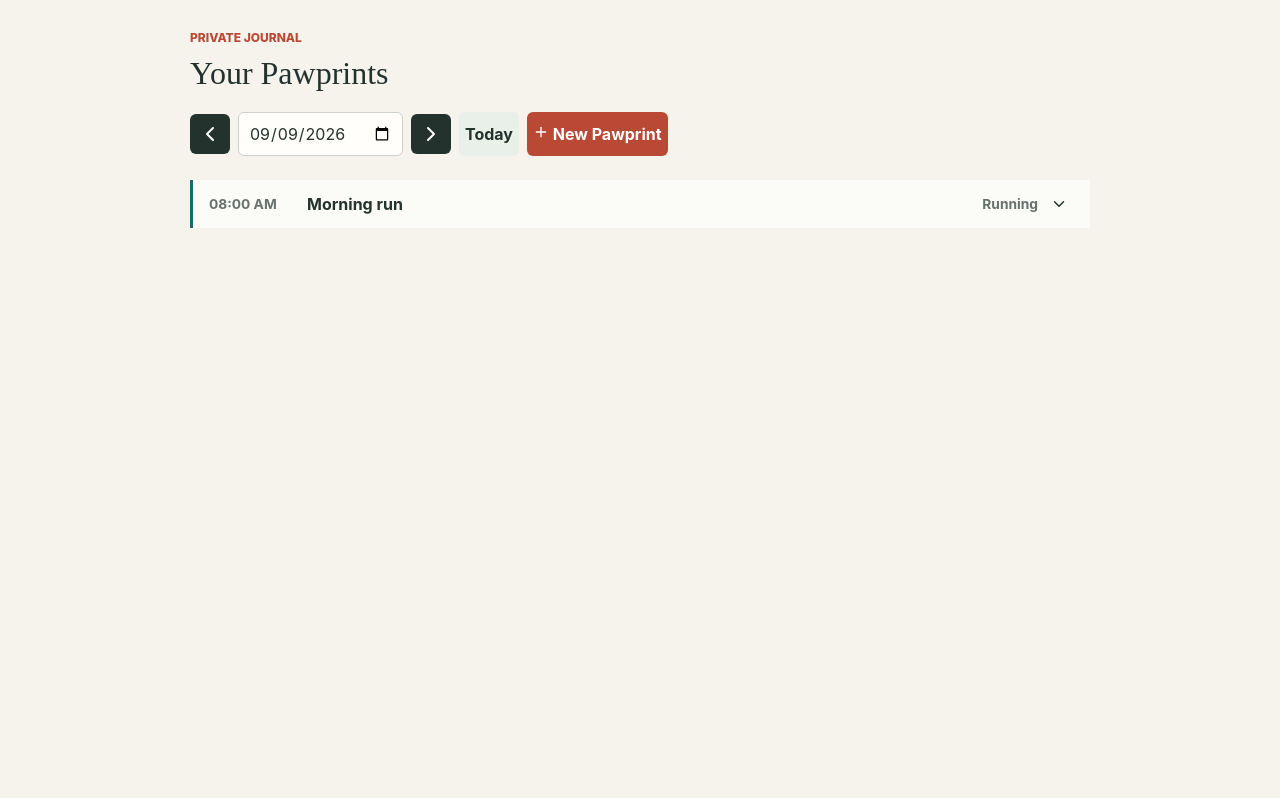
Test: TimelinePage › shows the refetched title after a successful edit returns to the timeline
Check: the text "Morning run" is shown, box [307,194,403,214]
Step 1. Click the button "08:00 AM Morning run Running" → [243, 204], box [193,180,1090,228]
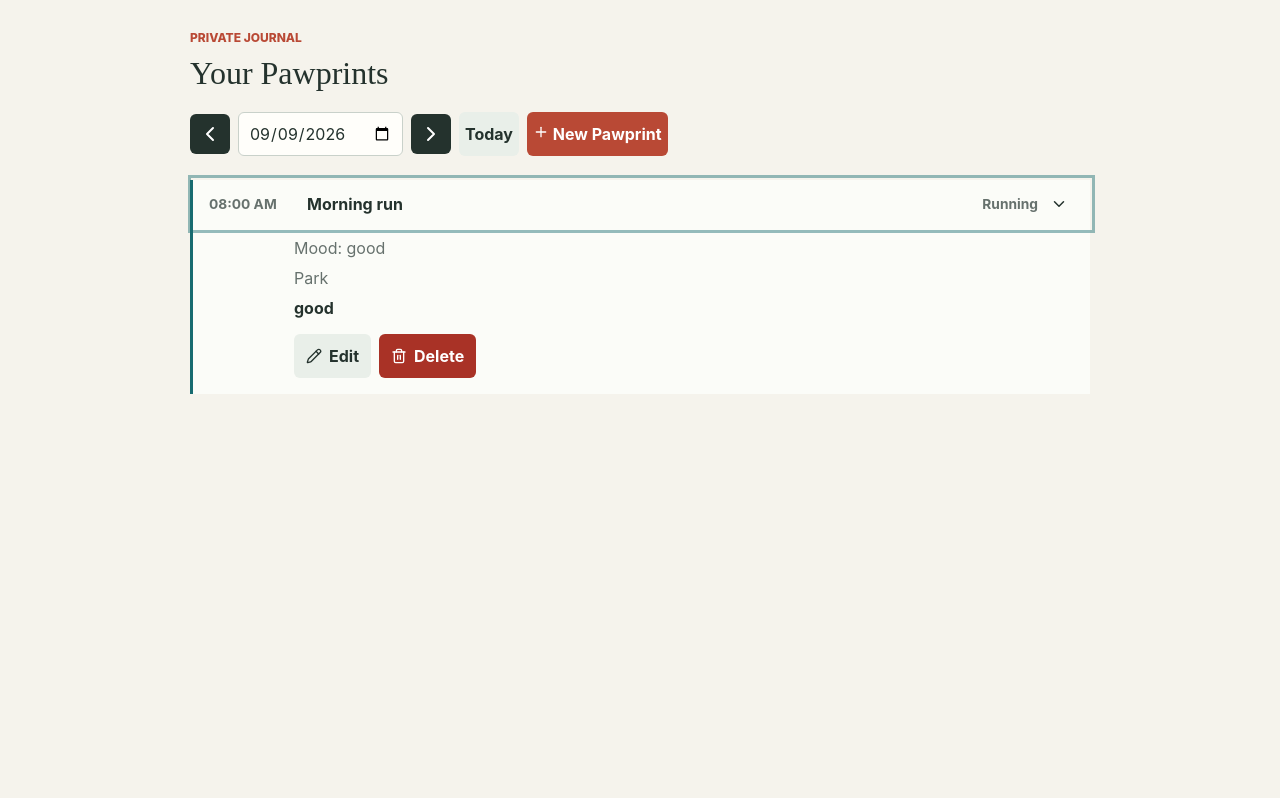
Step 2. Click the button with aria-label "Edit Morning run" → [332, 356], box [294,334,371,378]
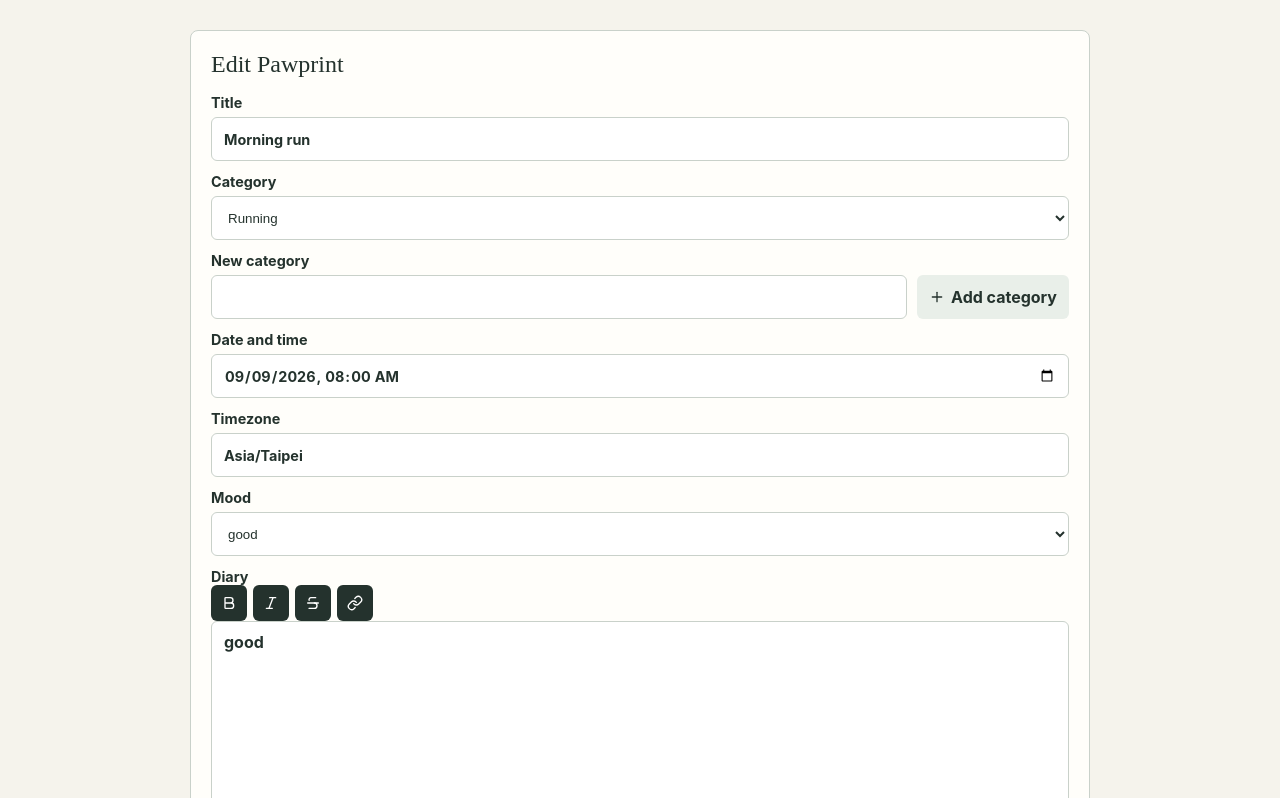
Step 3. Replace the text in the field labelled "Title" with "Fresh title" → [640, 139], box [211,117,1069,161]
(page scrolled)
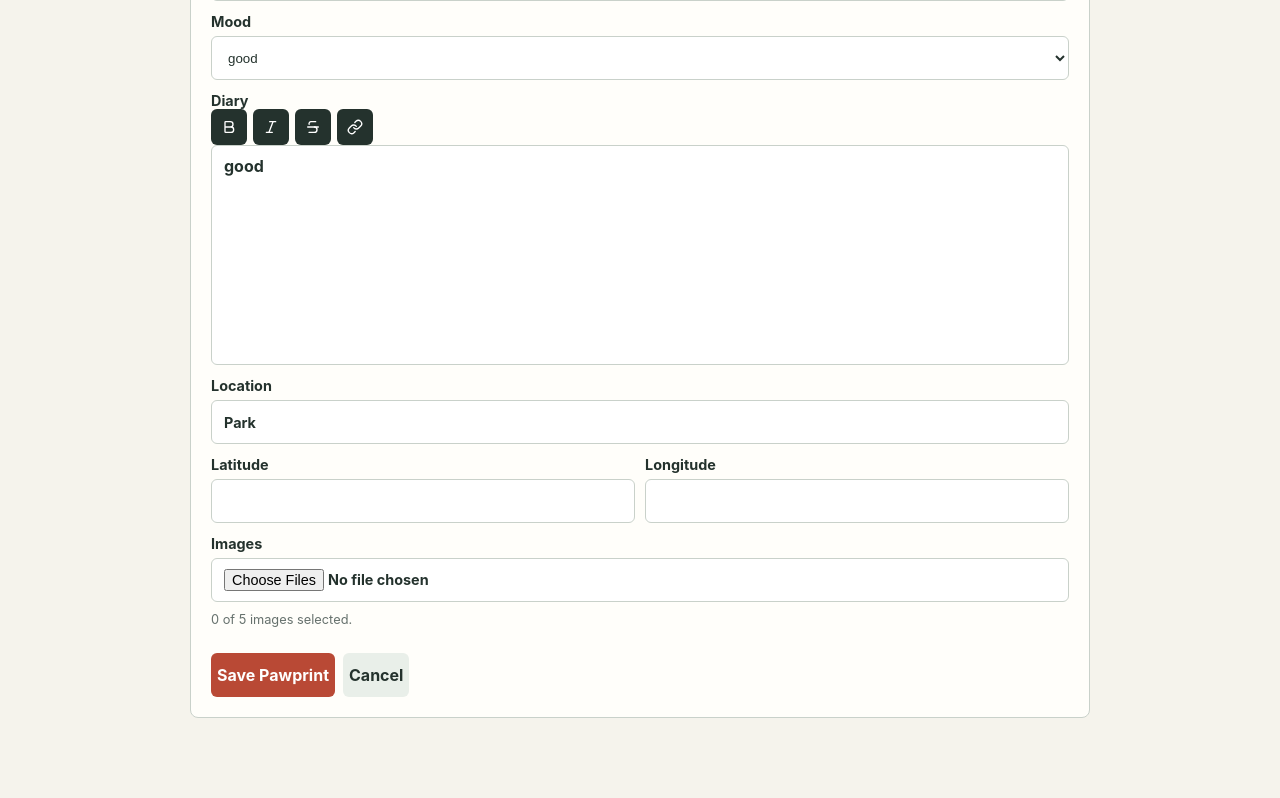
Step 4. Click the button "Save Pawprint" → [273, 675], box [211,653,335,697]
(page scrolled)
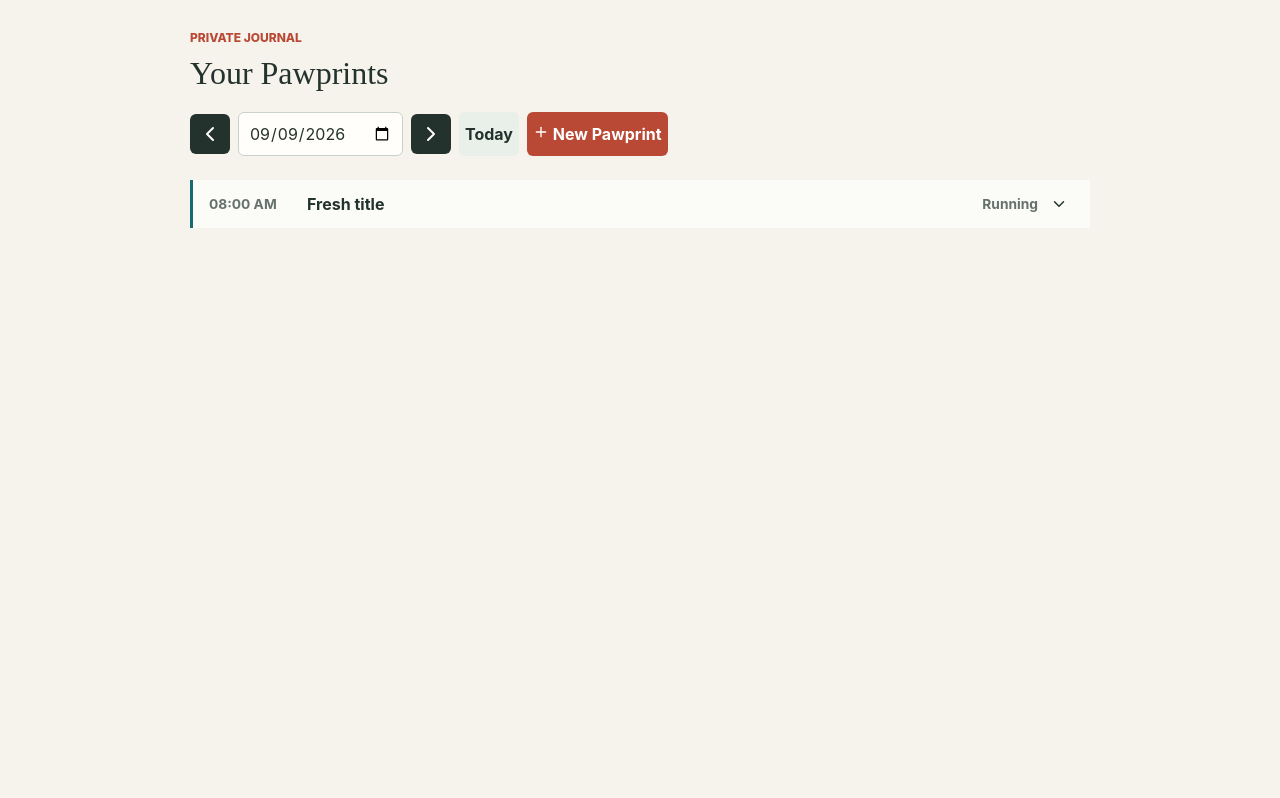
Check: the button "Morning run" is not shown
Check: the text "Fresh title" is shown, box [307,194,384,214]
